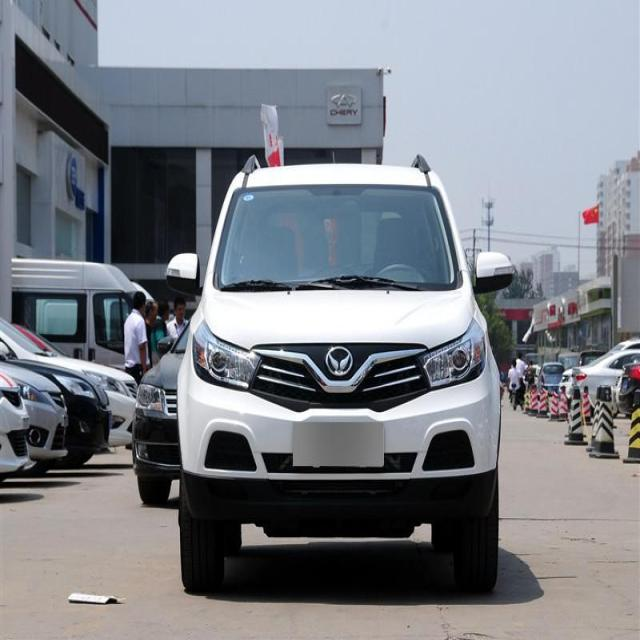front_bumper: (178, 349, 500, 482)
front_glass: (214, 186, 460, 292)
front_left_side_light: (419, 316, 486, 391)
front_left_side_mirror: (468, 249, 515, 298)
front_right_side_light: (190, 317, 262, 393)
front_right_side_mirror: (165, 252, 204, 298)
wheel: (450, 468, 501, 586), (178, 471, 225, 592)
